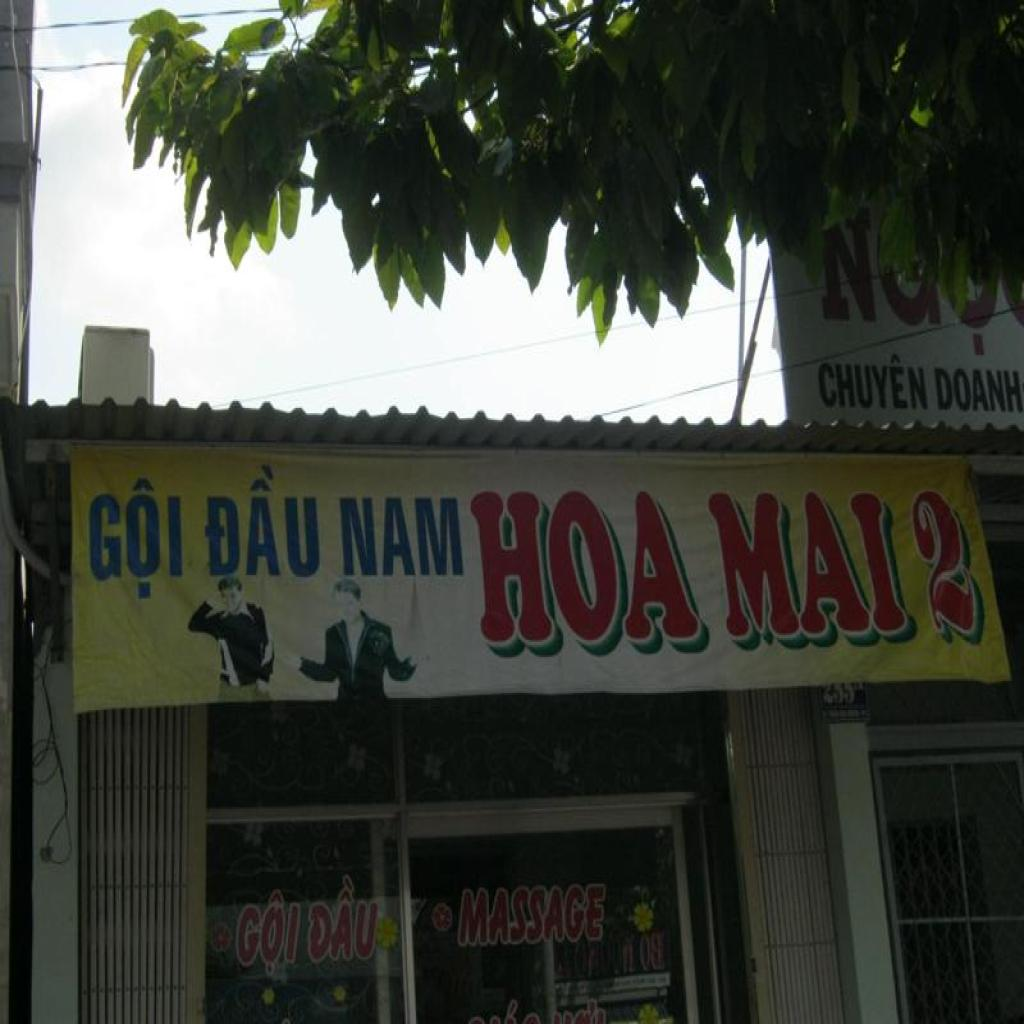text: (466, 488, 710, 645), (705, 490, 910, 640), (200, 464, 324, 580), (90, 478, 184, 606), (908, 488, 984, 637), (338, 495, 466, 578), (456, 882, 609, 949), (820, 203, 880, 324), (304, 874, 386, 962), (816, 348, 930, 411), (233, 888, 306, 976)
